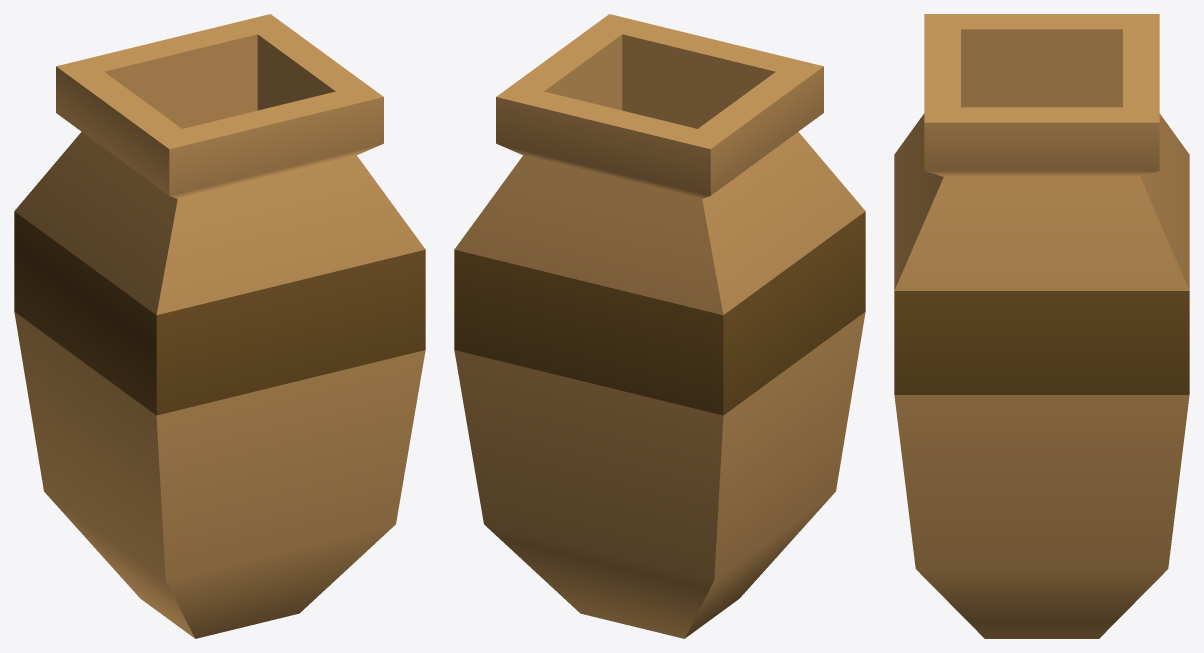
File: pot.fbx
3 renders of one model, left to right at view 1: azimuth 30°, elevation 25°; view 2: azimuth 150°, elevation 25°; view 3: azimuth 270°, elevation 25°, orthographic. The views are drawn at different scales.
Visible parts, largest first — view 1: pCube1; view 2: pCube1; view 3: pCube1.
Boxes of the visible parts, bbox=[...] form: pCube1: bbox=[14, 14, 425, 638]; pCube1: bbox=[454, 14, 865, 638]; pCube1: bbox=[894, 14, 1189, 638].
Size of the model in its own units: 41.58 by 77.44 by 38.06.
